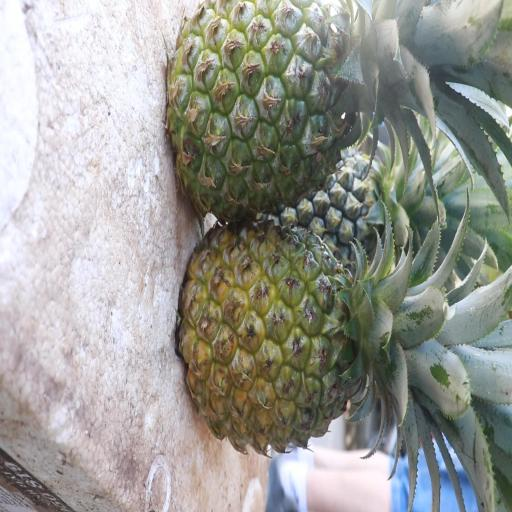------------------------------: (172, 0, 387, 219)
Pineapple - v8 v1: (184, 221, 412, 456)
